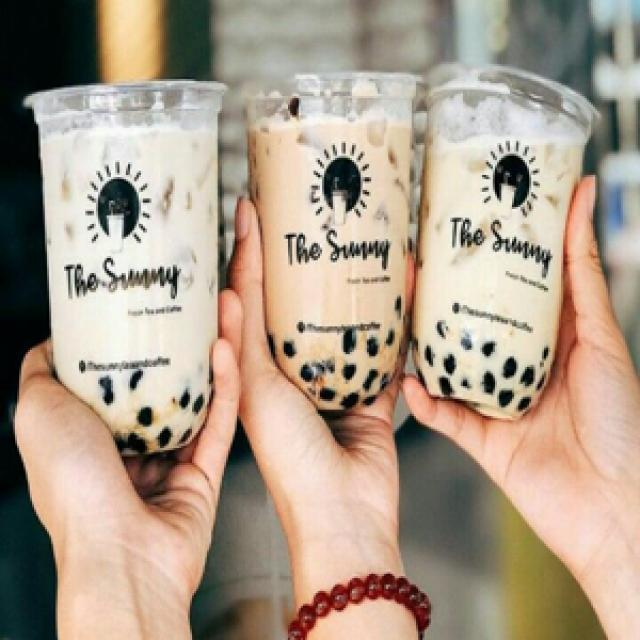plastic cup: (19, 72, 239, 470), (416, 56, 606, 424), (239, 64, 424, 429)
